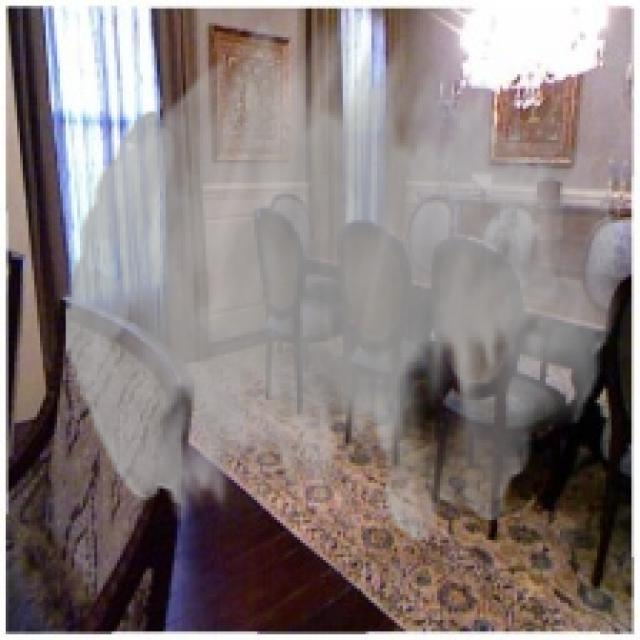smoke: (66, 14, 620, 540)
